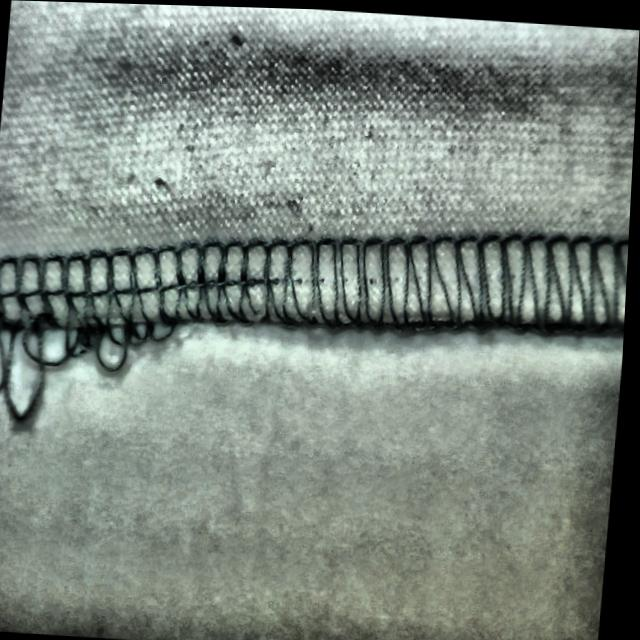Stitch: (0, 228, 186, 431)
